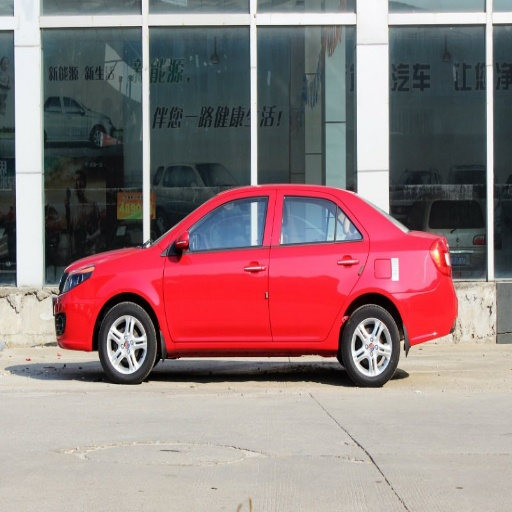back_left_door: (269, 193, 367, 343)
front_left_door: (164, 195, 275, 343)
